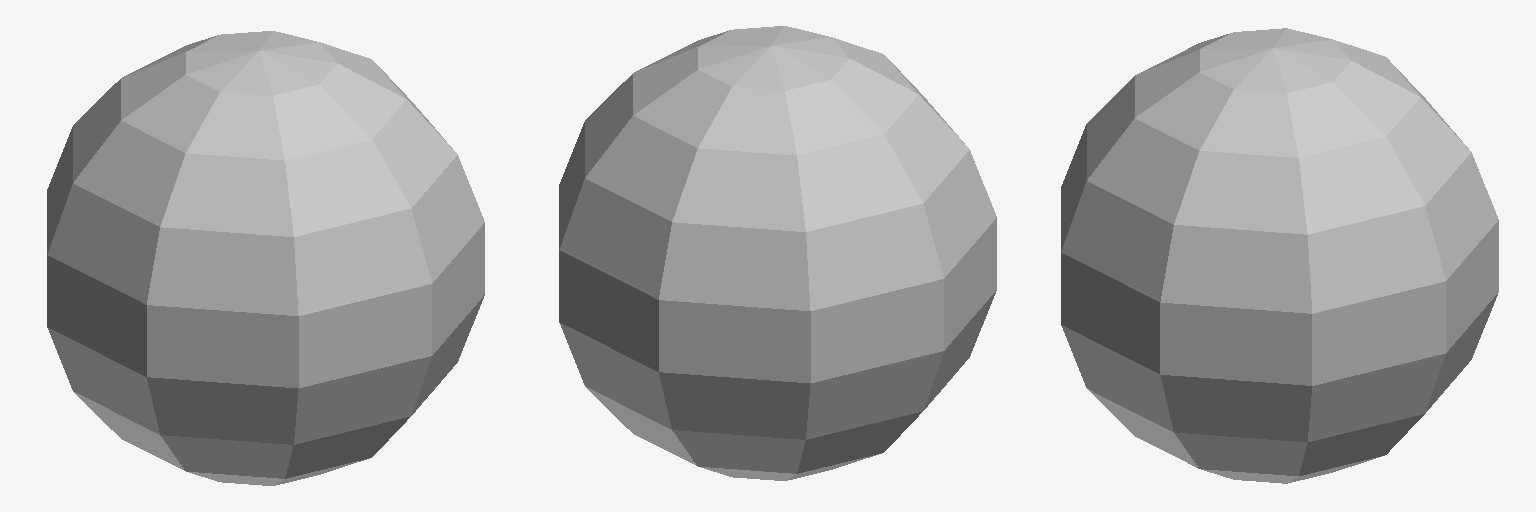
Rendered from monox.obj.
The picture shows the model from 3 angles: view 1: azimuth 30°, elevation 25°; view 2: azimuth 150°, elevation 25°; view 3: azimuth 270°, elevation 25°; orthographic projection.
Parts seen in each view (by area): view 1: Sphere; view 2: Sphere; view 3: Sphere.
Part boxes in pixels (left/top/right/bottom): Sphere: left=47, top=31, right=484, bottom=485; Sphere: left=559, top=26, right=996, bottom=480; Sphere: left=1061, top=28, right=1498, bottom=483.
Bounding box in the file's own units: 1.94 × 2 × 1.91.